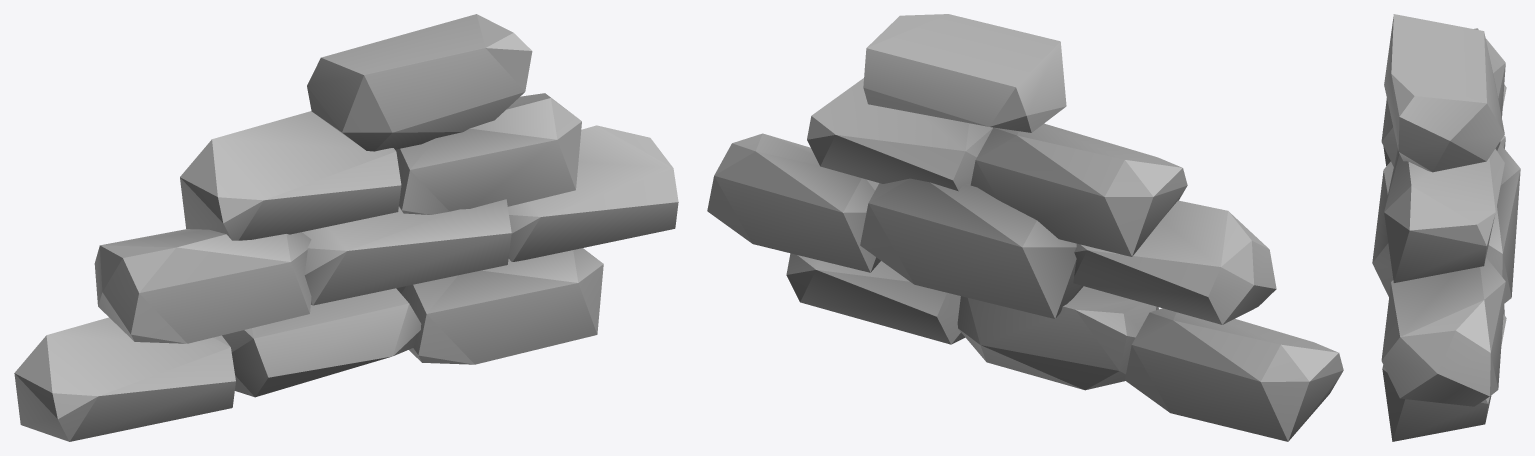
File: stone_fence_003.glb
The picture shows the model from 3 angles, left to right: view 1: azimuth 30°, elevation 25°; view 2: azimuth 150°, elevation 25°; view 3: azimuth 270°, elevation 25°; orthographic projection. The views are drawn at different scales.
Visible parts, largest first — view 1: stone_fence_003.001; view 2: stone_fence_003.001; view 3: stone_fence_003.001.
Boxes of the visible parts, x1=… form: stone_fence_003.001: x1=14, y1=14, x2=678, y2=441; stone_fence_003.001: x1=707, y1=14, x2=1343, y2=441; stone_fence_003.001: x1=1372, y1=14, x2=1520, y2=441.
Size of the model in its own units: 1.81 by 0.869 by 0.3671.
1 material, 1 textured.
